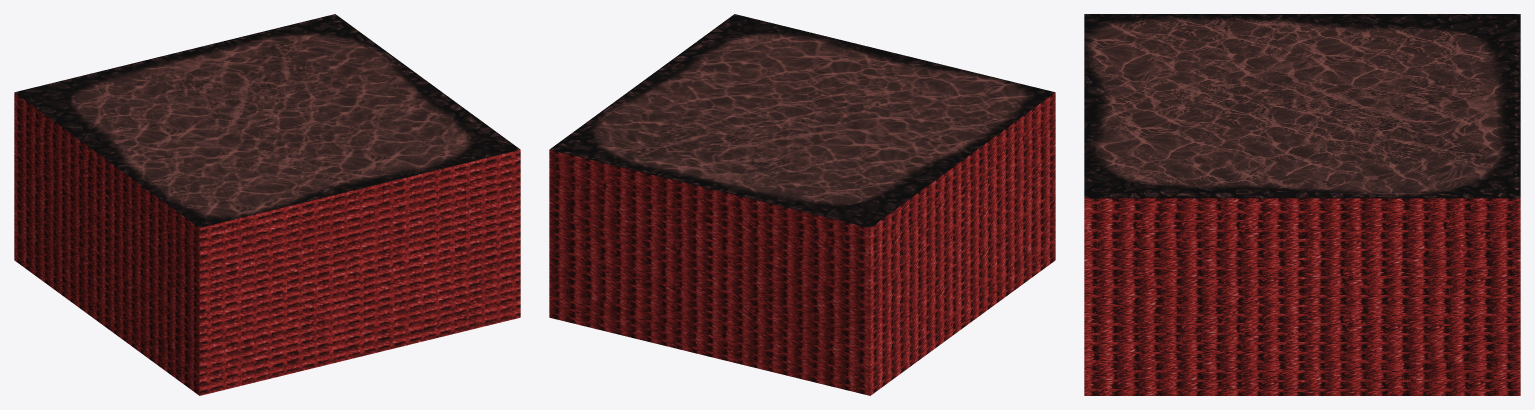
Rendered from Lake.fbx.
3 views of the same model, side by side, from view 1: azimuth 30°, elevation 25°; view 2: azimuth 150°, elevation 25°; view 3: azimuth 270°, elevation 25° (orthographic). The views are drawn at different scales.
Visible parts, largest first — view 1: Cube; view 2: Cube; view 3: Cube.
Boxes of the visible parts, x1,y1,x2,y2 form: Cube: [14, 14, 520, 395]; Cube: [549, 14, 1055, 395]; Cube: [1084, 14, 1520, 395].
Bounding box in the file's own units: 200 × 100 × 200.
